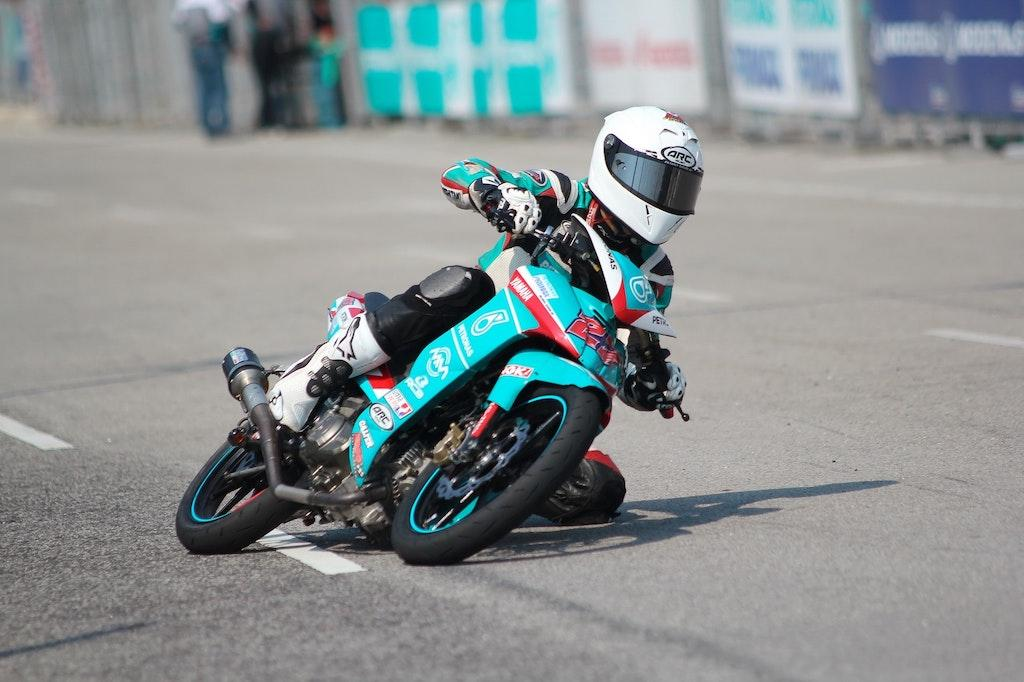helmet: (585, 104, 705, 247)
